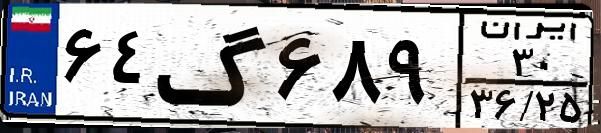0: (537, 27, 568, 80)
2: (535, 70, 560, 125)
3: (508, 27, 537, 80), (470, 70, 495, 125)
4: (110, 28, 156, 98)
5: (560, 70, 590, 125)
6: (270, 28, 330, 110), (57, 26, 110, 100), (495, 70, 520, 125)
8: (330, 28, 385, 110)
9: (385, 28, 445, 110)
گ: (156, 12, 270, 120)
